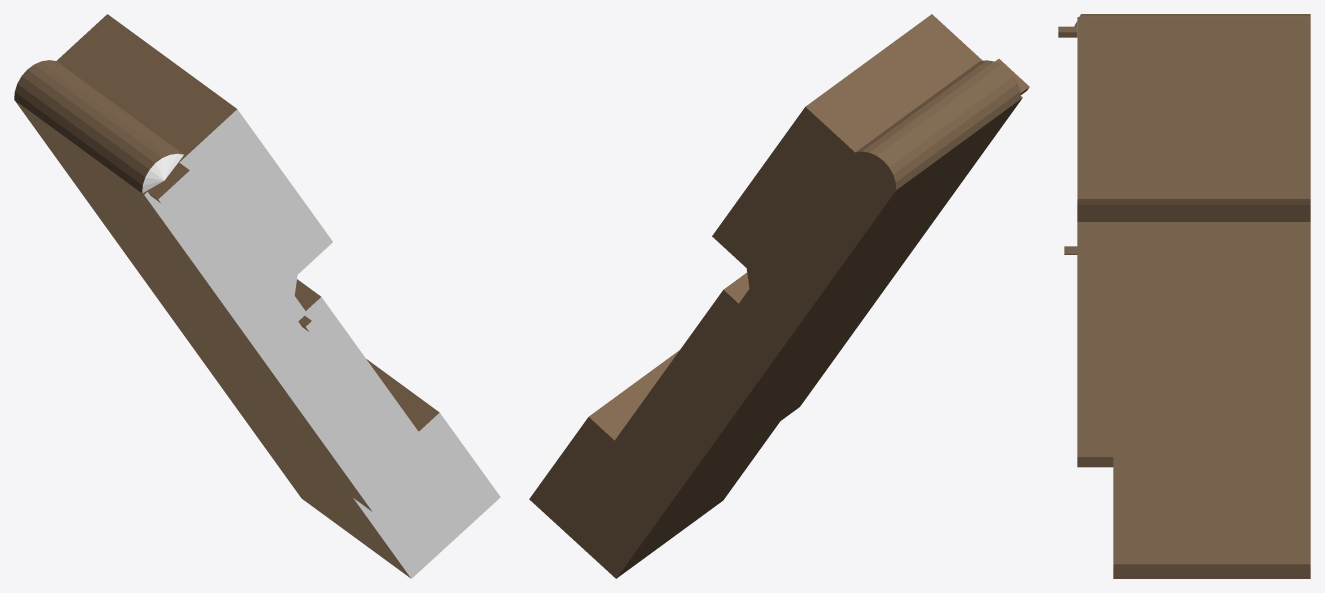
The picture shows the model from 3 angles, left to right: view 1: azimuth 30°, elevation 25°; view 2: azimuth 150°, elevation 25°; view 3: azimuth 270°, elevation 25°; orthographic projection. The views are drawn at different scales.
Visible parts, largest first — view 1: City_PC-02670; view 2: City_PC-02670; view 3: City_PC-02670.
Boxes of the visible parts, x1,y1,x2,y2 form: City_PC-02670: (14,14,500,578); City_PC-02670: (529,14,1029,578); City_PC-02670: (1058,14,1310,578).
Size of the model in its own units: 2646 by 3571 by 1711.
